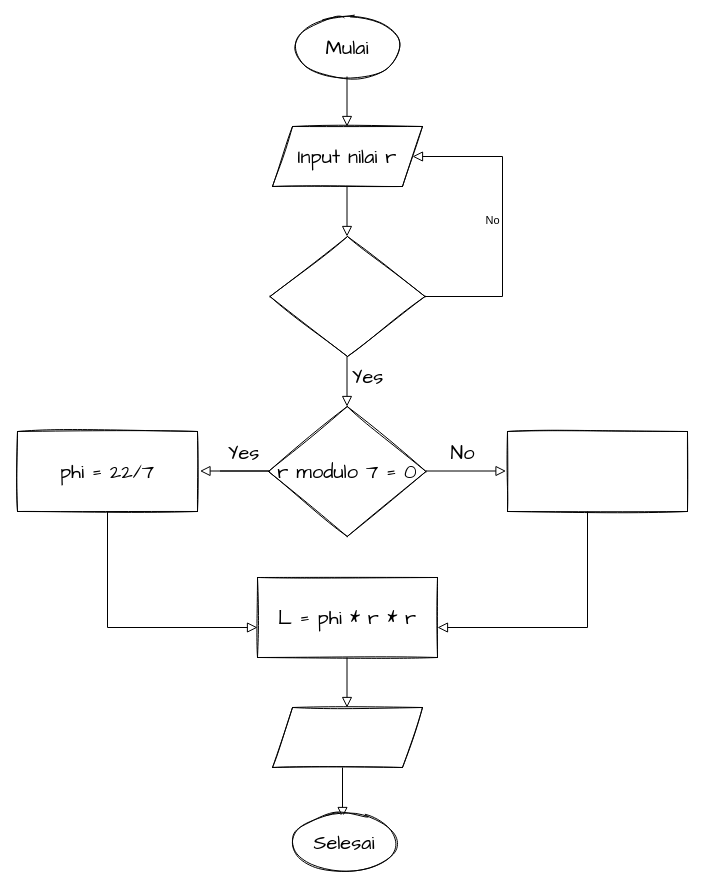
This 705x890 diagram has some shape labels left out. The shapes that lost their labels are listed below. From the top down, each one's box as (x1, y1, x2, y2) in pixels, then its label:
(269, 236, 425, 356): r = number ?
(506, 430, 688, 512): phi = 3,14
(272, 706, 422, 768): Output L
